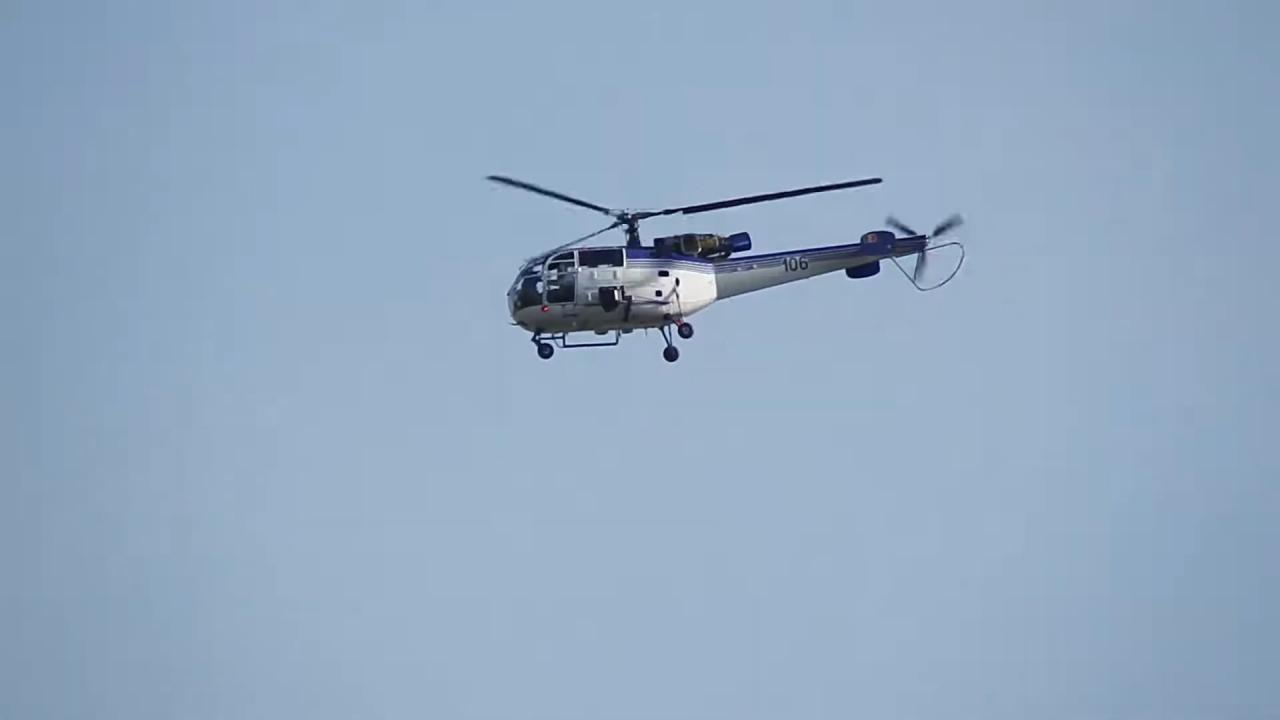Helicopter: (472, 159, 987, 374)
